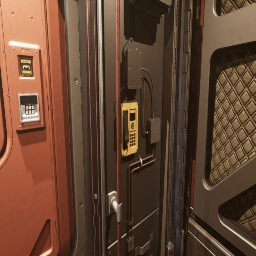EmergencyPhone ,: (120, 88, 138, 157)
